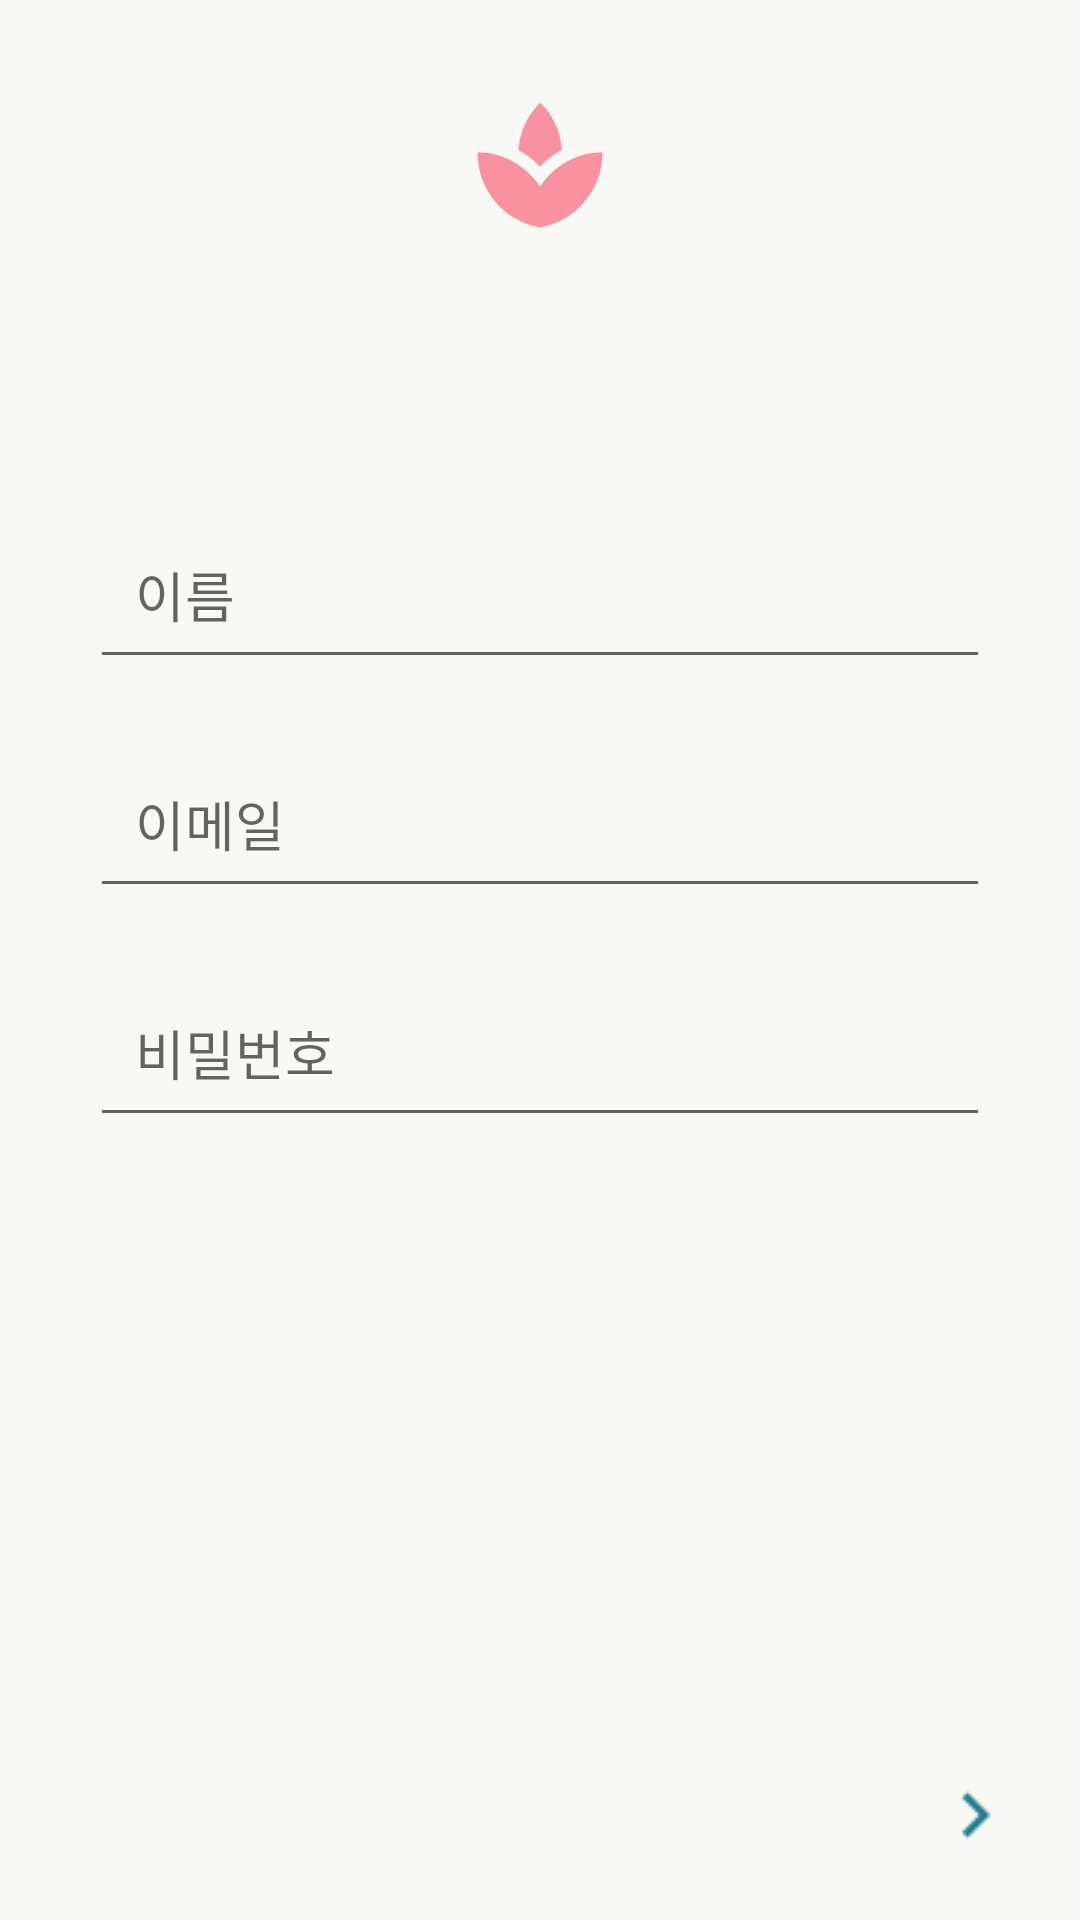

Where icons sit on this 1080*1920 app screen, as BBox(x1, y1, x2, y2):
next: BBox(962, 1791, 991, 1839)
